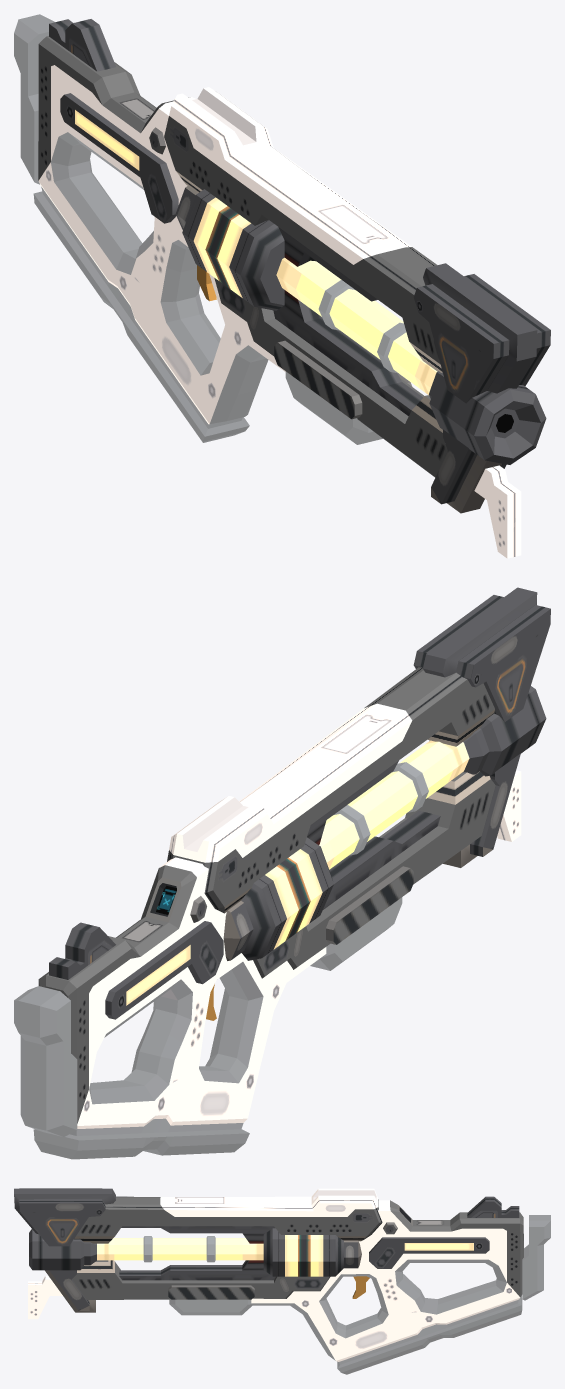
File: item_168.glb
3 views of the same model, one above another, from view 1: azimuth 30°, elevation 25°; view 2: azimuth 150°, elevation 25°; view 3: azimuth 270°, elevation 25° (orthographic). The views are drawn at different scales.
Visible parts, largest first — view 1: ZK_5_006, ZK_5_004, ZK_5_003, ZK_5_1, ZK_5_001, ZK_5_2, ZK_5_005, ZK_5_007; view 2: ZK_5_006, ZK_5_004, ZK_5_003, ZK_5_2, ZK_5_005, ZK_5_001, ZK_5_1, ZK_5_007; view 3: ZK_5_006, ZK_5_004, ZK_5_003, ZK_5_2, ZK_5_005, ZK_5_1, ZK_5_001, ZK_5_007, ZK_5__Trigger_01.
Boxes of the visible parts, left/top/right/bottom form: ZK_5_006: left=38, top=19, right=537, bottom=513; ZK_5_004: left=38, top=65, right=521, bottom=558; ZK_5_003: left=14, top=14, right=406, bottom=444; ZK_5_1: left=182, top=189, right=546, bottom=464; ZK_5_001: left=413, top=274, right=550, bottom=504; ZK_5_2: left=75, top=110, right=437, bottom=394; ZK_5_005: left=214, top=278, right=447, bottom=477; ZK_5_007: left=175, top=185, right=440, bottom=419; ZK_5_006: left=38, top=587, right=537, bottom=1123; ZK_5_004: left=77, top=703, right=521, bottom=1128; ZK_5_003: left=14, top=762, right=428, bottom=1159; ZK_5_2: left=126, top=740, right=469, bottom=1005; ZK_5_005: left=253, top=771, right=495, bottom=978; ZK_5_001: left=413, top=595, right=550, bottom=856; ZK_5_1: left=241, top=686, right=546, bottom=960; ZK_5_007: left=223, top=728, right=489, bottom=960; ZK_5_006: left=14, top=1188, right=523, bottom=1312; ZK_5_004: left=28, top=1188, right=520, bottom=1361; ZK_5_003: left=143, top=1215, right=550, bottom=1374; ZK_5_2: left=97, top=1235, right=473, bottom=1276; ZK_5_005: left=72, top=1260, right=330, bottom=1300; ZK_5_1: left=29, top=1228, right=343, bottom=1276; ZK_5_001: left=19, top=1188, right=105, bottom=1310; ZK_5_007: left=84, top=1240, right=361, bottom=1299; ZK_5__Trigger_01: left=352, top=1276, right=369, bottom=1298.
Size of the model in its own units: 10.04 by 34.11 by 92.56.
Materials: 8 (8 with a texture image).
